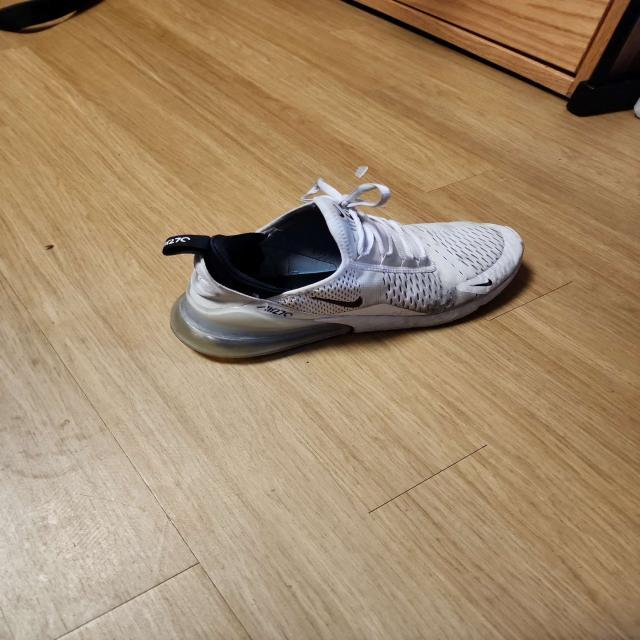shoes: (159, 176, 527, 365)
